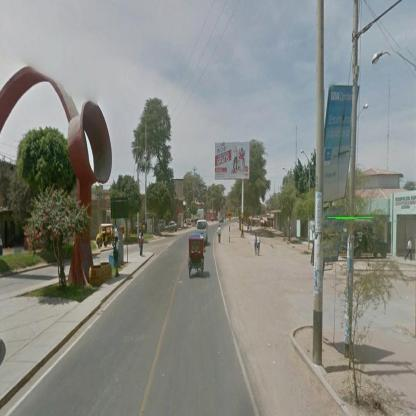Peaton: (115, 237, 122, 279), (218, 226, 223, 245), (255, 234, 259, 256), (258, 233, 261, 257)
Pista: (10, 219, 260, 414)
Vehiculo: (189, 234, 206, 279), (197, 221, 210, 246)
